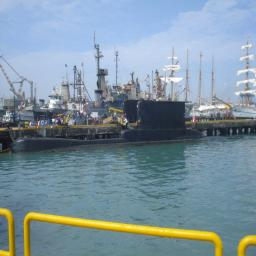submarine: (12, 102, 208, 154)
